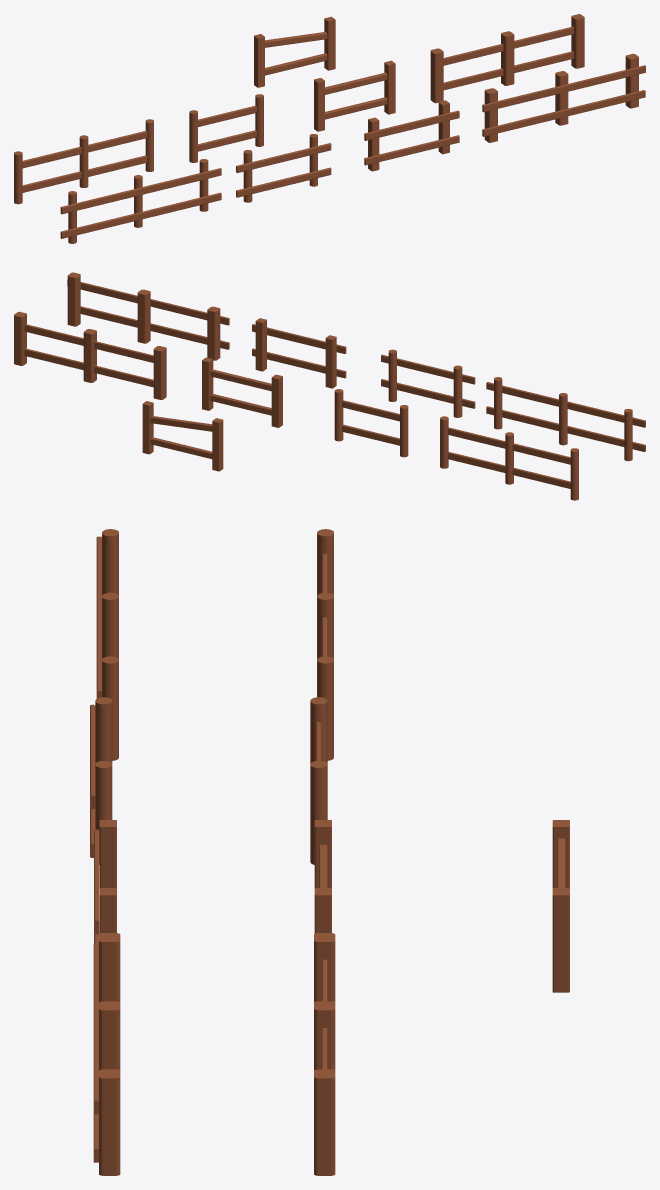
The model's file is fence.fbx.
3 renders of one model, top to bottom at view 1: azimuth 30°, elevation 25°; view 2: azimuth 150°, elevation 25°; view 3: azimuth 270°, elevation 25°, orthographic. The views are drawn at different scales.
Parts seen in each view (by area): view 1: Fence.003, Fence.004, Cylinder.001, Cylinder.003, Fence.002, Cylinder, Fence.001, Fence.005, Cylinder.002; view 2: Fence.003, Fence.004, Cylinder.001, Cylinder.003, Fence.002, Cylinder, Fence.005, Fence.001, Cylinder.002; view 3: Fence.003, Fence.004, Cylinder.001, Cylinder.003, Fence.005, Cylinder, Fence.002, Cylinder.002, Fence.001.
Part boxes in pixels (box(x1,y1,x2,y2)): Fence.003: box(482, 53, 645, 142); Fence.004: box(430, 14, 584, 103); Cylinder.001: box(60, 159, 221, 243); Cylinder.003: box(14, 119, 153, 204); Fence.002: box(364, 100, 459, 171); Cylinder: box(236, 134, 331, 202); Fence.001: box(314, 60, 395, 131); Fence.005: box(254, 16, 335, 87); Cylinder.002: box(189, 94, 263, 162); Fence.003: box(67, 272, 229, 360); Fence.004: box(14, 311, 166, 399); Cylinder.001: box(486, 377, 645, 461); Cylinder.003: box(440, 416, 578, 500); Fence.002: box(252, 318, 346, 388); Cylinder: box(381, 349, 475, 417); Fence.005: box(142, 401, 223, 471); Fence.001: box(202, 357, 282, 427); Cylinder.002: box(334, 389, 408, 457); Fence.003: box(93, 933, 120, 1175); Fence.004: box(314, 933, 335, 1175); Cylinder.001: box(96, 529, 118, 760); Cylinder.003: box(317, 529, 333, 760); Fence.005: box(552, 820, 569, 992); Cylinder: box(90, 697, 112, 864); Fence.002: box(94, 820, 116, 943); Cylinder.002: box(310, 697, 327, 864); Fence.001: box(314, 820, 331, 933).
Bounding box in the file's own units: 1242 × 100 × 447.
